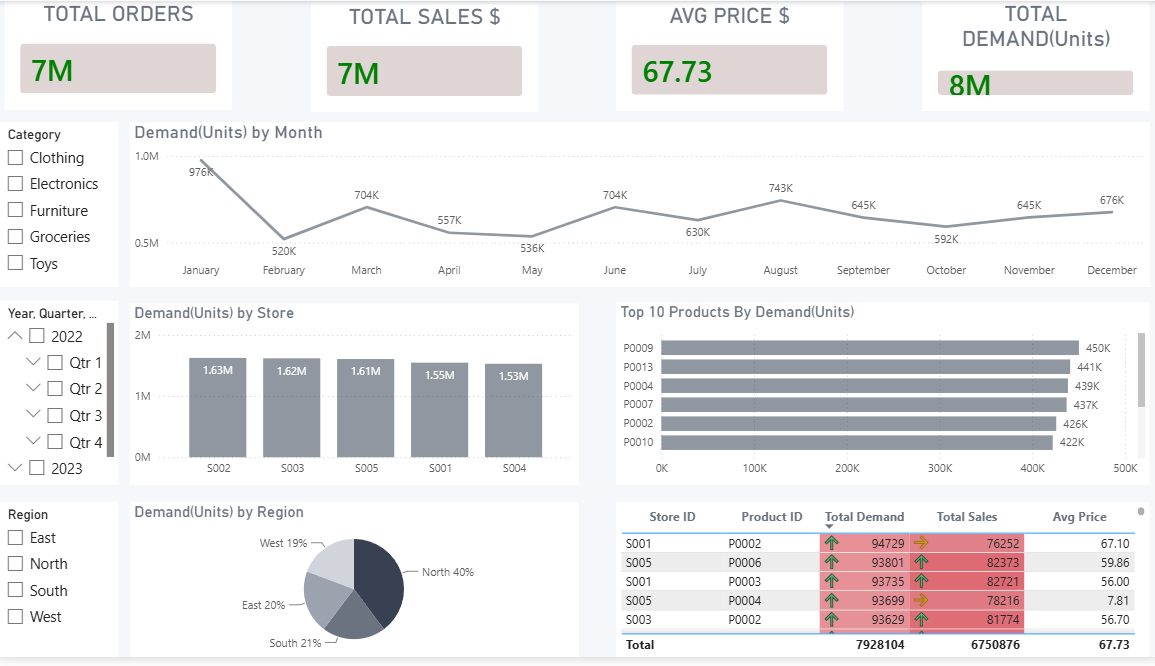

The dashboard page shown, as its layout file describes it:
{"tool":"powerbi","page":{"name":"Page 1","canvas":[1280,720],"ordinal":0},"visuals":[{"type":"cardVisual","title":"TOTAL ORDERS","fields":{"Data":["demand_forecasting.Total Orders"]},"box":[9.6,0,249.7,119.4],"z":0},{"type":"cardVisual","title":"TOTAL DEMAND(Units)","fields":{"Data":["demand_forecasting.Total Demand"]},"box":[1016.8,0,249.7,120.8],"z":1000},{"type":"cardVisual","title":"AVG PRICE $","fields":{"Data":["demand_forecasting.Avg Price"]},"box":[681.1,1.4,249.7,119.4],"z":2000},{"type":"cardVisual","title":"TOTAL SALES $","fields":{"Data":["demand_forecasting.Total Sales"]},"box":[345.3,2.7,249.7,119.4],"z":3000},{"type":"lineChart","title":"Demand(Units) by Month","fields":{"Y":["demand_forecasting.Total Demand"],"Category":["demand_forecasting.Date.Variation.Date Hierarchy.Year","demand_forecasting.Date.Variation.Date Hierarchy.Quarter","demand_forecasting.Date.Variation.Date Hierarchy.Month","demand_forecasting.Date.Variation.Date Hierarchy.Day"]},"box":[146.8,133.1,1119.7,181.1],"z":4000},{"type":"columnChart","title":"Demand(Units) by Store","fields":{"Category":["demand_forecasting.Store ID"],"Y":["demand_forecasting.Total Demand"]},"box":[146.8,332.1,492.6,199],"z":5000},{"type":"barChart","title":"Top 10 Products By Demand(Units)","fields":{"Category":["demand_forecasting.Product ID"],"Y":["Sum(demand_forecasting.Demand)"]},"box":[680.6,330.7,585.9,200.3],"z":6000},{"type":"pieChart","title":"Demand(Units) by Region","fields":{"Category":["demand_forecasting.Region"],"Y":["demand_forecasting.Total Demand"]},"box":[146.8,550.3,492.6,170.2],"z":7000},{"type":"slicer","fields":{"Values":["demand_forecasting.Region"]},"box":[0,550.3,134.5,170.2],"z":8000},{"type":"slicer","fields":{"Values":["demand_forecasting.Category"]},"box":[0,133.1,134.5,181.1],"z":9000},{"type":"slicer","fields":{"Values":["demand_forecasting.Date.Variation.Date Hierarchy.Year","demand_forecasting.Date.Variation.Date Hierarchy.Quarter","demand_forecasting.Date.Variation.Date Hierarchy.Month","demand_forecasting.Date.Variation.Date Hierarchy.Day"]},"box":[0,329.3,134.5,201.7],"z":10000},{"type":"tableEx","fields":{"Values":["demand_forecasting.Store ID","demand_forecasting.Product ID","demand_forecasting.Total Demand","demand_forecasting.Total Sales","demand_forecasting.Avg Price"]},"box":[680.6,550.3,585.9,170.2],"z":11000}]}

Visuals, with their boxes in screenshot pixels (x1, y1, x2, y2), scaled from the page's 1280x720 canvas onto the 1155x666 screenshot:
"TOTAL ORDERS" cardVisual: box=[9, 0, 234, 110]
"TOTAL DEMAND(Units)" cardVisual: box=[918, 0, 1143, 112]
"AVG PRICE $" cardVisual: box=[615, 1, 840, 112]
"TOTAL SALES $" cardVisual: box=[312, 2, 537, 113]
"Demand(Units) by Month" lineChart: box=[132, 123, 1143, 291]
"Demand(Units) by Store" columnChart: box=[132, 307, 577, 491]
"Top 10 Products By Demand(Units)" barChart: box=[614, 306, 1143, 491]
"Demand(Units) by Region" pieChart: box=[132, 509, 577, 665]
slicer - demand_forecasting.Region: box=[0, 509, 121, 665]
slicer - demand_forecasting.Category: box=[0, 123, 121, 291]
slicer - demand_forecasting.Date.Variation.Date Hierarchy.Year x demand_forecasting.Date.Variation.Date Hierarchy.Quarter: box=[0, 305, 121, 491]
tableEx - demand_forecasting.Store ID x demand_forecasting.Product ID: box=[614, 509, 1143, 665]
